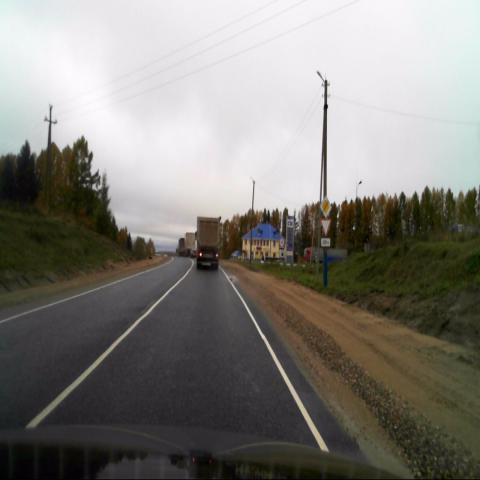2_2: (319, 196, 332, 218)
2_4: (320, 218, 331, 236)
